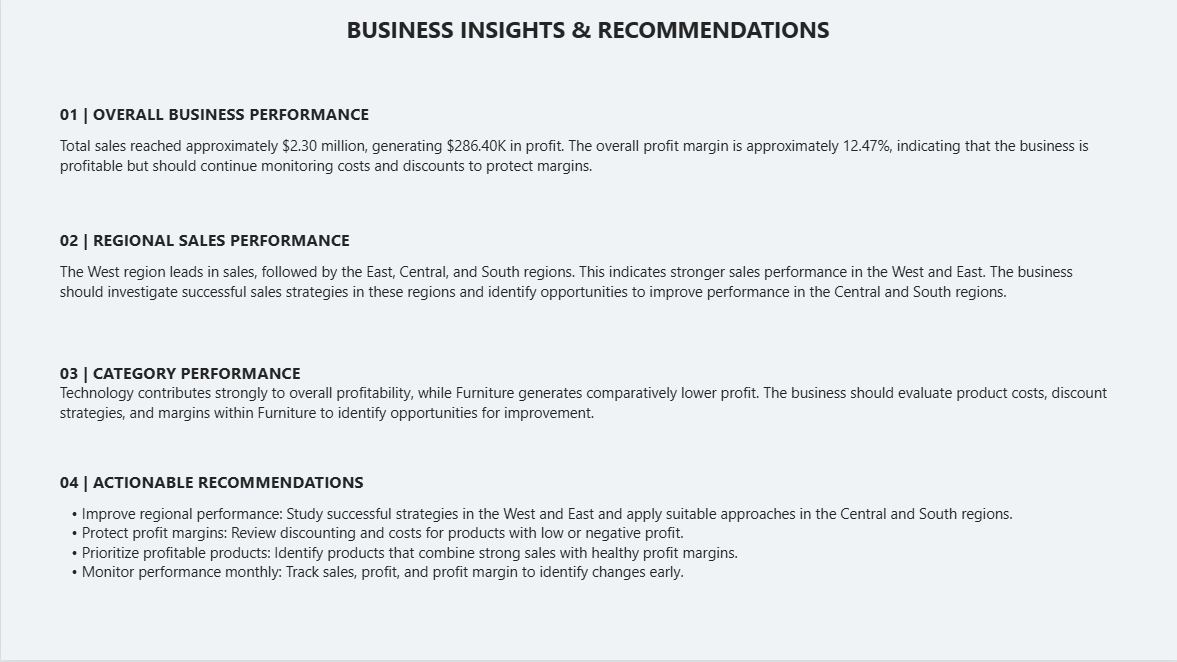

The dashboard page shown, as its layout file describes it:
{"tool":"powerbi","page":{"name":"Business Insights","canvas":[1920,1080],"ordinal":1},"visuals":[{"type":"textbox","box":[535,22.5,847.5,85],"z":0},{"type":"textbox","box":[96.7,213.3,1730,156.7],"z":1000},{"type":"textbox","box":[96.7,396.7,1730,170],"z":1001},{"type":"textbox","box":[96.7,590,1730,136.7],"z":1002},{"type":"textbox","box":[96.7,766.7,1730,236.7],"z":1003}]}

Visuals, with their boxes in screenshot pixels (x1, y1, x2, y2), scaled from the page's 1920x1080 canvas onto the 1177x662 screenshot:
textbox: left=328, top=14, right=848, bottom=66
textbox: left=59, top=131, right=1120, bottom=227
textbox: left=59, top=243, right=1120, bottom=347
textbox: left=59, top=362, right=1120, bottom=445
textbox: left=59, top=470, right=1120, bottom=615
